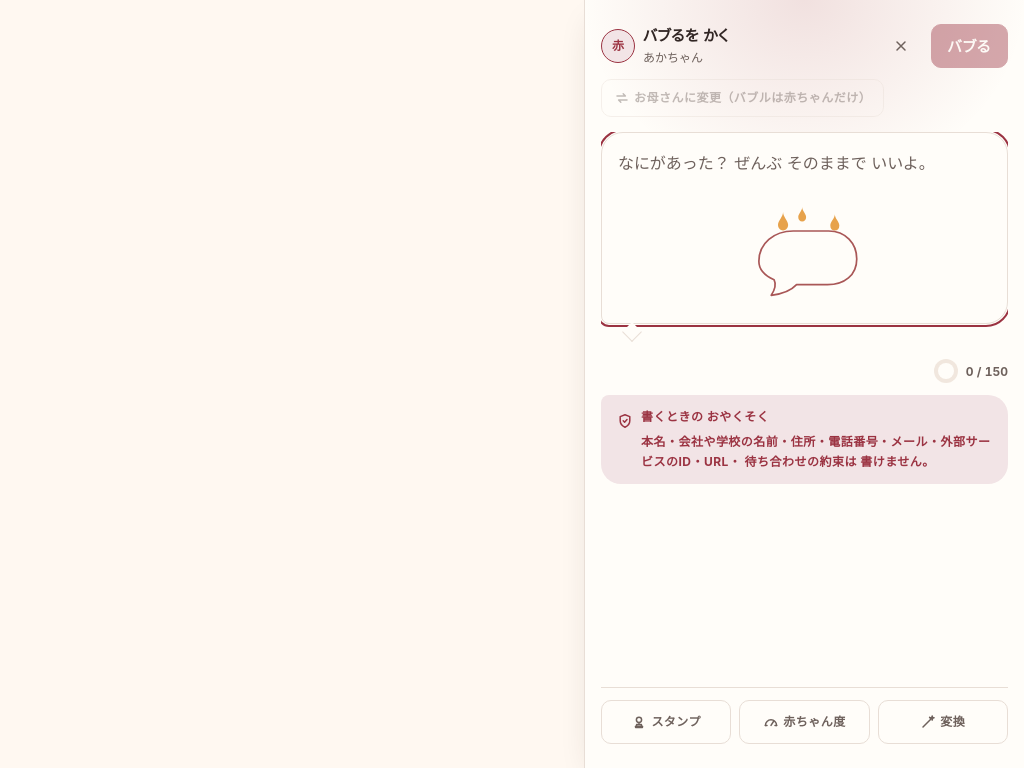
composer behavior after component extraction › puts transformed text into the editor without submitting
Type "つかれた" into the text box at (804, 228), box left=601, top=132, right=1008, bottom=324
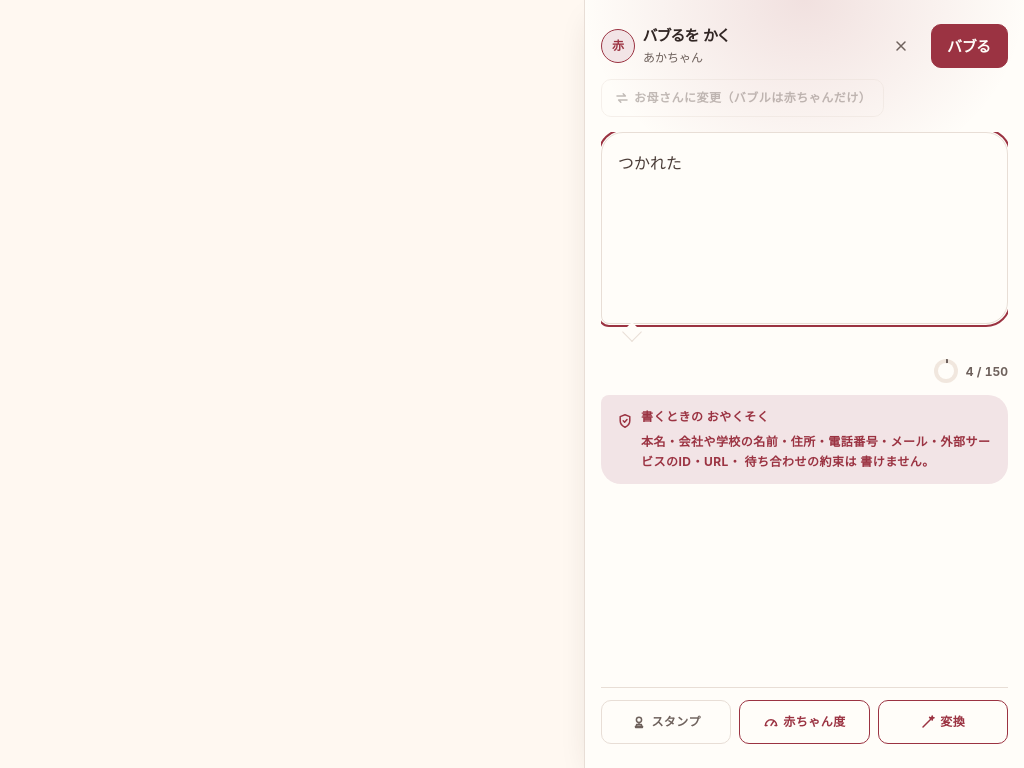
Click the button "変換" at (943, 722), box left=878, top=700, right=1008, bottom=744
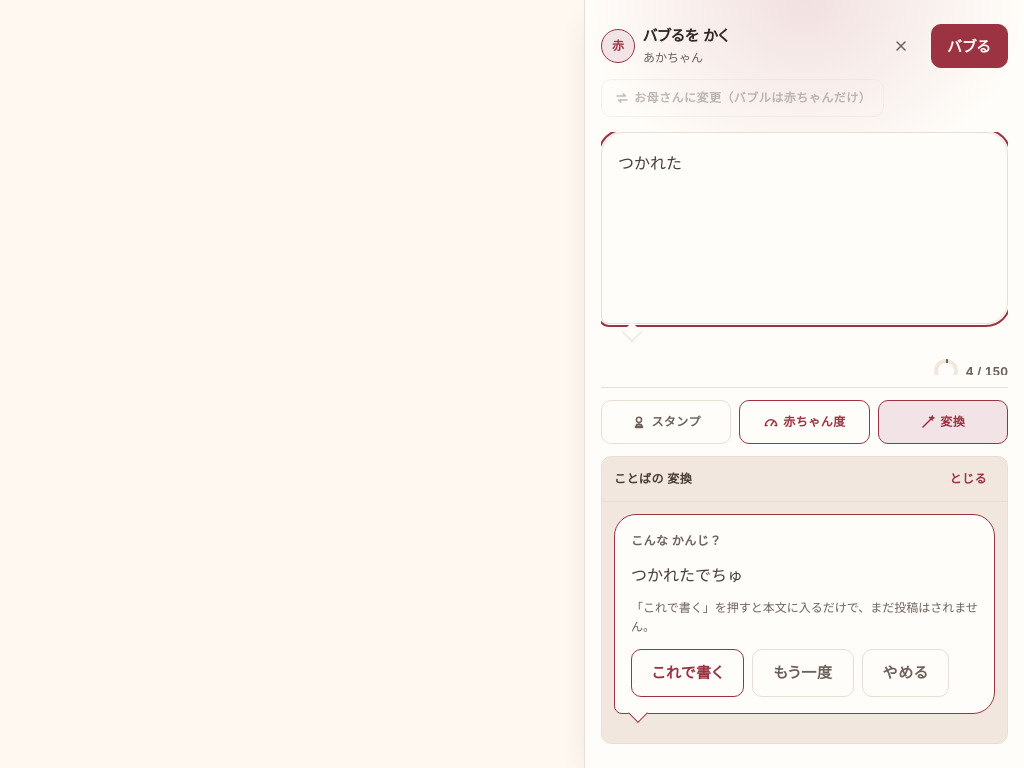
Click the button "これで書く" at (688, 672), box left=631, top=648, right=744, bottom=696
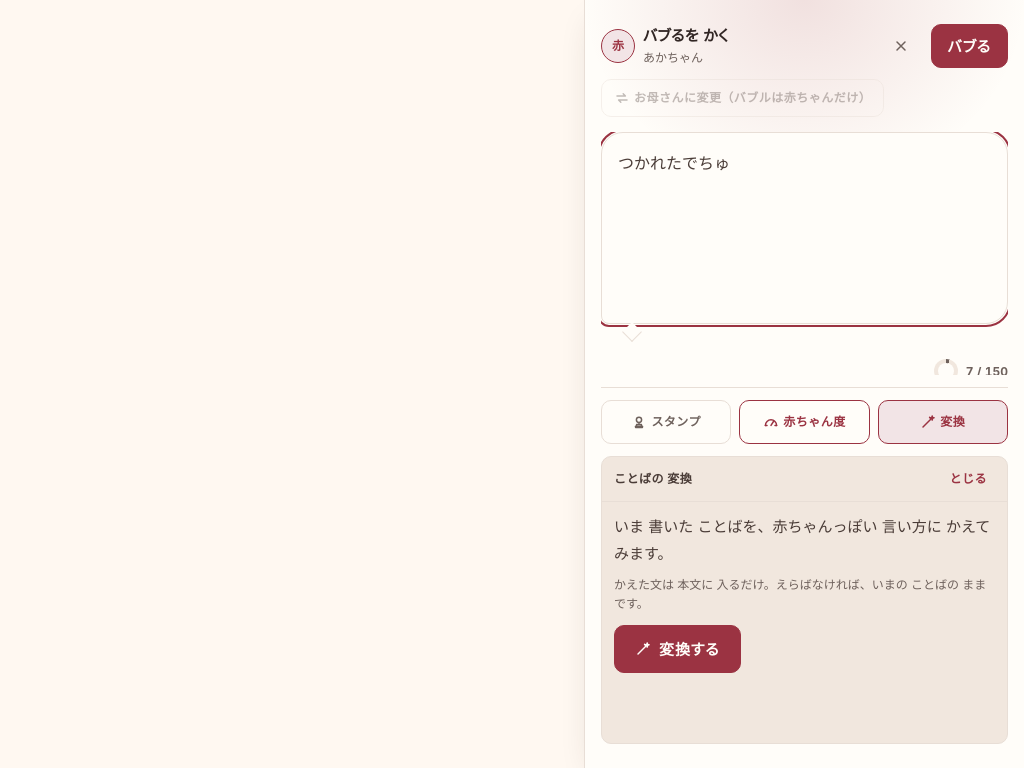
Check: the text box holds "つかれたでちゅ", box left=601, top=132, right=1008, bottom=324
